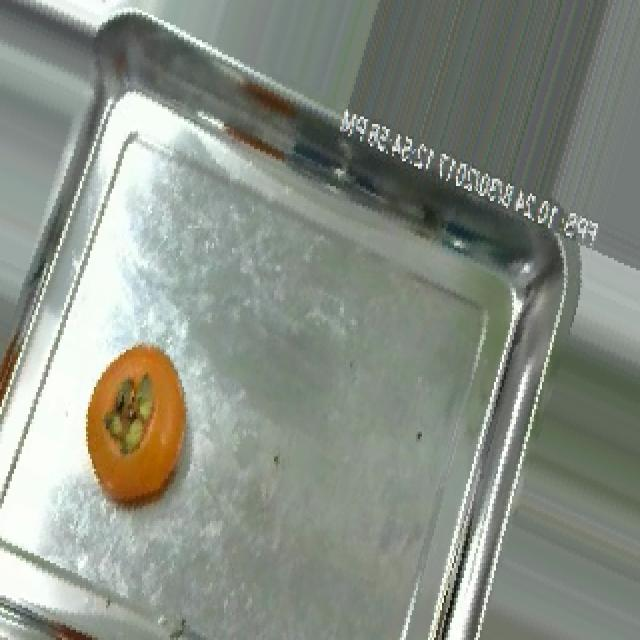Fruit: (64, 325, 216, 526)
